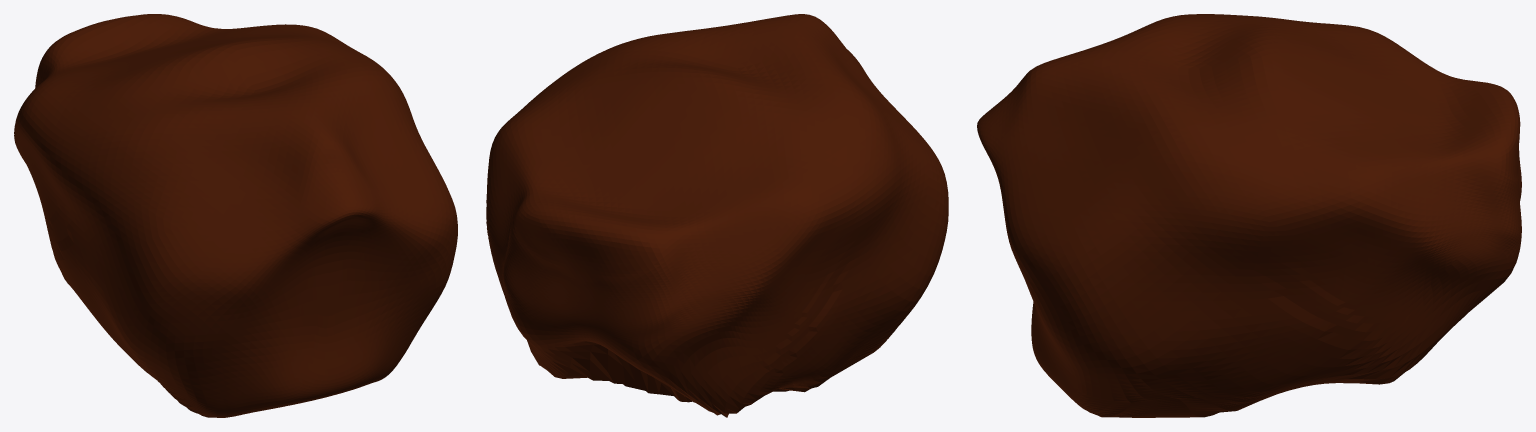
The model's file is Asteroid5.fbx.
3 views of the same model, side by side, from view 1: azimuth 30°, elevation 25°; view 2: azimuth 150°, elevation 25°; view 3: azimuth 270°, elevation 25° (orthographic). The views are drawn at different scales.
Parts seen in each view (by area): view 1: Icosphere; view 2: Icosphere; view 3: Icosphere.
Boxes of the visible parts, bbox=[...] form: Icosphere: bbox=[14, 14, 457, 417]; Icosphere: bbox=[486, 14, 948, 417]; Icosphere: bbox=[977, 14, 1521, 417].
Size of the model in its own units: 1020 by 893 by 1340.
